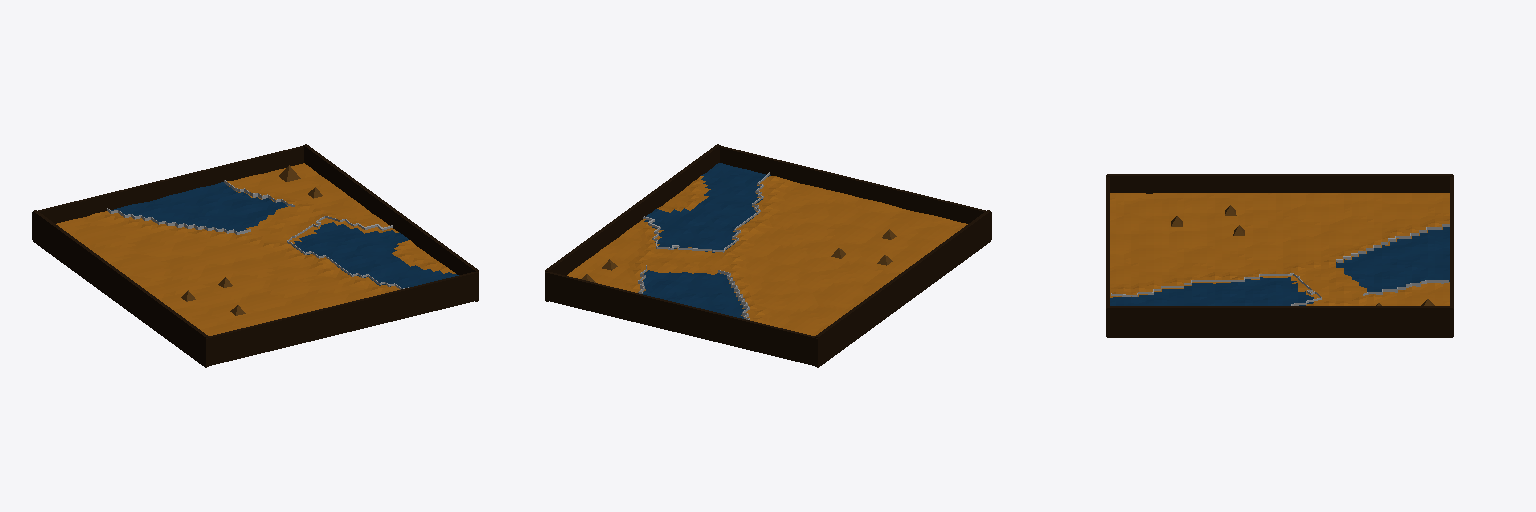
File: Egypt_EastFinal.obj
3 views of the same model, side by side, from view 1: azimuth 30°, elevation 25°; view 2: azimuth 150°, elevation 25°; view 3: azimuth 270°, elevation 25° (orthographic).
Visible parts, largest first — view 1: Plane_004_Plane.000, Cube_145_001_Cube.011, Cube_145_003_Cube.012, Cube_145_Cube.010, Cube_145_002_Cube.013, Cube; view 2: Plane_004_Plane.000, Cube_145_Cube.010, Cube_145_003_Cube.012, Cube_145_001_Cube.011, Cube_145_002_Cube.013, Cube; view 3: Plane_004_Plane.000, Cube_145_002_Cube.013, Cube_145_003_Cube.012, Cube, Cube_145_001_Cube.011, Cube_145_Cube.010.
Boxes of the visible parts, x1,y1,x2,y2 form: Plane_004_Plane.000: [56, 163, 458, 335]; Cube_145_001_Cube.011: [204, 272, 478, 366]; Cube_145_003_Cube.012: [33, 210, 208, 367]; Cube_145_Cube.010: [32, 146, 303, 240]; Cube_145_002_Cube.013: [303, 144, 478, 301]; Cube: [287, 216, 408, 289]; Plane_004_Plane.000: [567, 163, 967, 335]; Cube_145_Cube.010: [545, 272, 819, 366]; Cube_145_003_Cube.012: [815, 210, 990, 367]; Cube_145_001_Cube.011: [720, 146, 991, 240]; Cube_145_002_Cube.013: [545, 144, 720, 301]; Cube: [643, 172, 769, 252]; Plane_004_Plane.000: [1110, 193, 1449, 305]; Cube_145_002_Cube.013: [1107, 306, 1452, 337]; Cube_145_003_Cube.012: [1107, 174, 1452, 193]; Cube: [1111, 273, 1321, 305]; Cube_145_001_Cube.011: [1106, 175, 1109, 336]; Cube_145_Cube.010: [1450, 175, 1453, 336].
Bounding box in the file's own units: 995 × 106 × 1093.